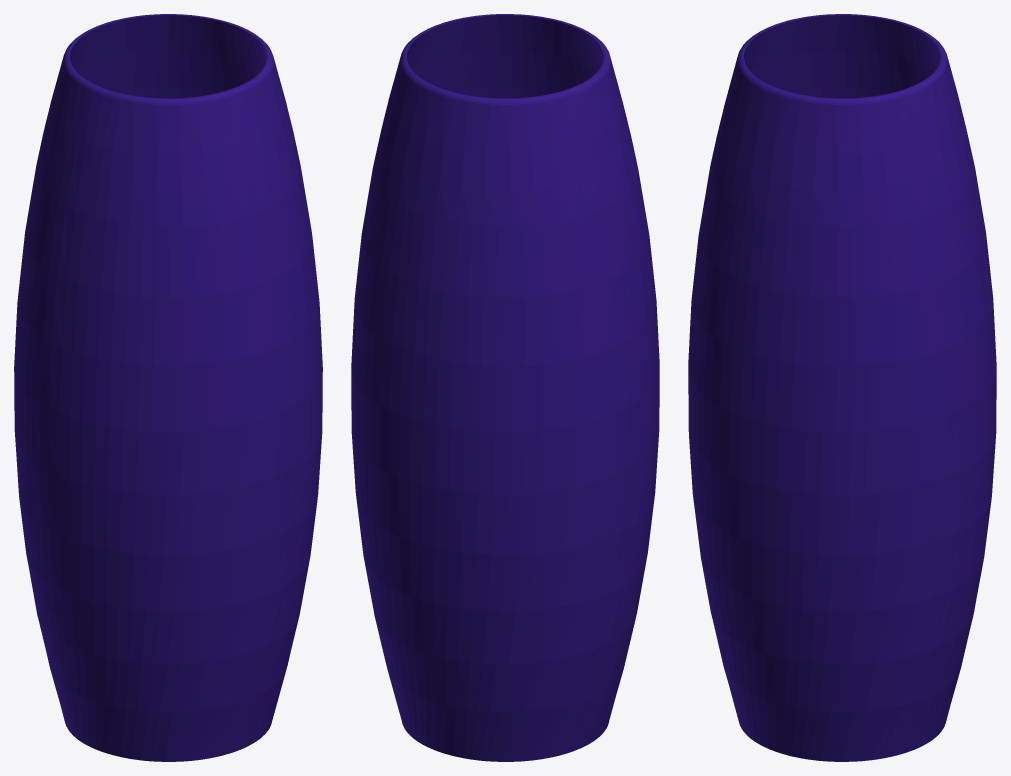
The model's file is plant_pot.dae.
The picture shows the model from 3 angles, left to right: view 1: azimuth 30°, elevation 25°; view 2: azimuth 150°, elevation 25°; view 3: azimuth 270°, elevation 25°; orthographic projection.
Visible parts, largest first — view 1: plant_pot; view 2: plant_pot; view 3: plant_pot.
Boxes of the visible parts, bbox=[...] form: plant_pot: bbox=[14, 14, 322, 761]; plant_pot: bbox=[351, 14, 659, 761]; plant_pot: bbox=[688, 14, 996, 761].
Size of the model in its own units: 0.5489 by 0.5488 by 1.3.
